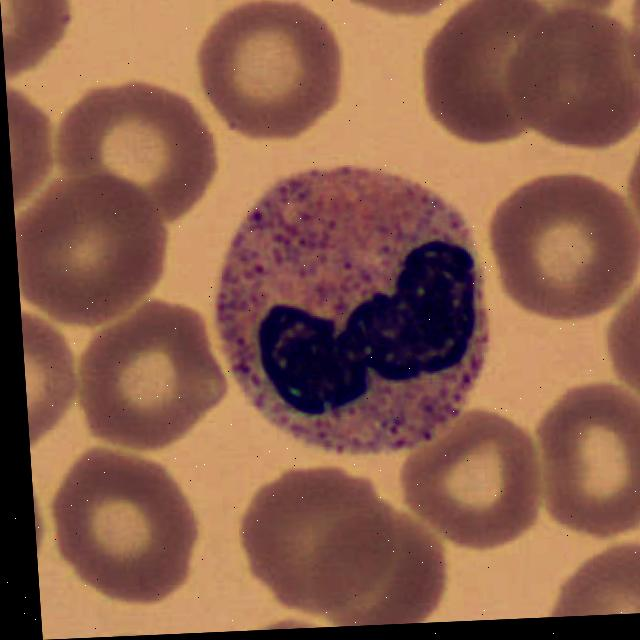neutrophil: (204, 158, 504, 467)
rbc: (406, 0, 579, 185), (46, 66, 233, 228), (67, 287, 241, 458), (55, 435, 205, 616), (230, 457, 402, 611), (388, 405, 553, 559), (12, 172, 177, 325), (489, 169, 640, 326), (195, 0, 345, 147), (508, 0, 640, 159), (303, 498, 449, 628), (539, 385, 640, 552), (20, 299, 88, 440), (5, 66, 72, 200), (0, 0, 85, 91), (548, 544, 640, 617), (597, 261, 640, 405), (470, 0, 634, 28), (325, 0, 470, 22), (617, 124, 640, 249)
